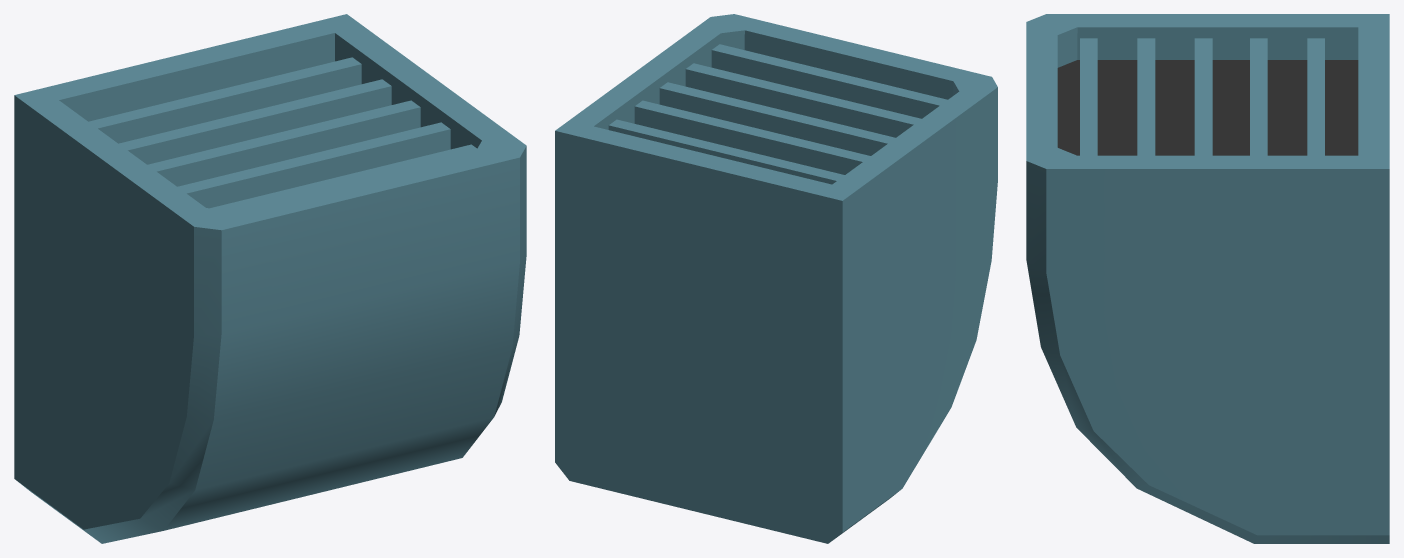
The model's file is VENTS_2_C.fbx.
3 renders of one model, left to right at view 1: azimuth 30°, elevation 25°; view 2: azimuth 150°, elevation 25°; view 3: azimuth 270°, elevation 25°, orthographic. The views are drawn at different scales.
Visible parts, largest first — view 1: VENTS_2_C; view 2: VENTS_2_C; view 3: VENTS_2_C.
Boxes of the visible parts, x1,y1,x2,y2 form: VENTS_2_C: [14, 14, 526, 543]; VENTS_2_C: [555, 14, 997, 543]; VENTS_2_C: [1026, 14, 1389, 543].
Size of the model in its own units: 53.32 by 61.42 by 52.84.
